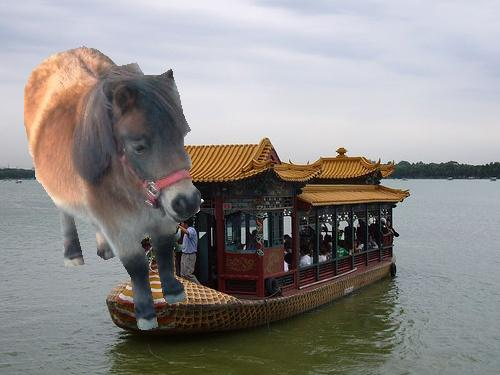tampered: (25, 47, 201, 330)
